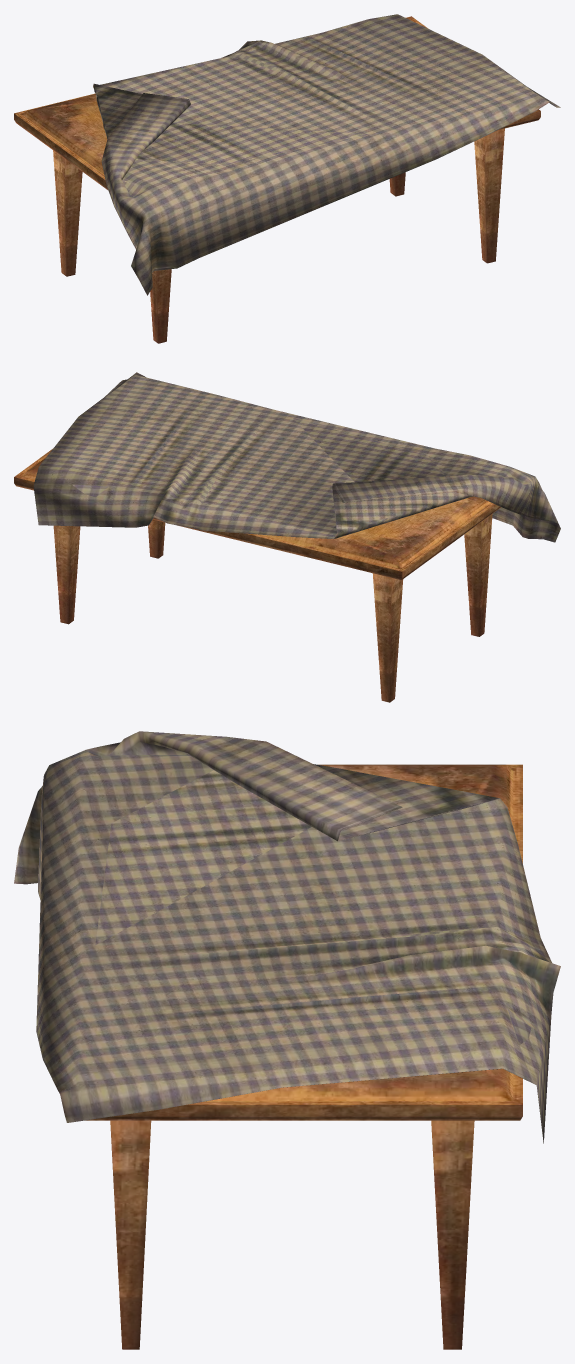
File: dining_table.glb
3 views of the same model, one above another, from view 1: azimuth 30°, elevation 25°; view 2: azimuth 150°, elevation 25°; view 3: azimuth 270°, elevation 25° (orthographic). The views are drawn at different scales.
Parts seen in each view (by area): view 1: dining_table; view 2: dining_table; view 3: dining_table.
Part boxes in pixels (box(x1,y1,x2,y2)): dining_table: box(14, 14, 560, 343); dining_table: box(14, 372, 560, 702); dining_table: box(14, 731, 560, 1349).
Bounding box in the file's own units: 2.26 × 0.8769 × 1.39.
Materials: 1 (1 with a texture image).
